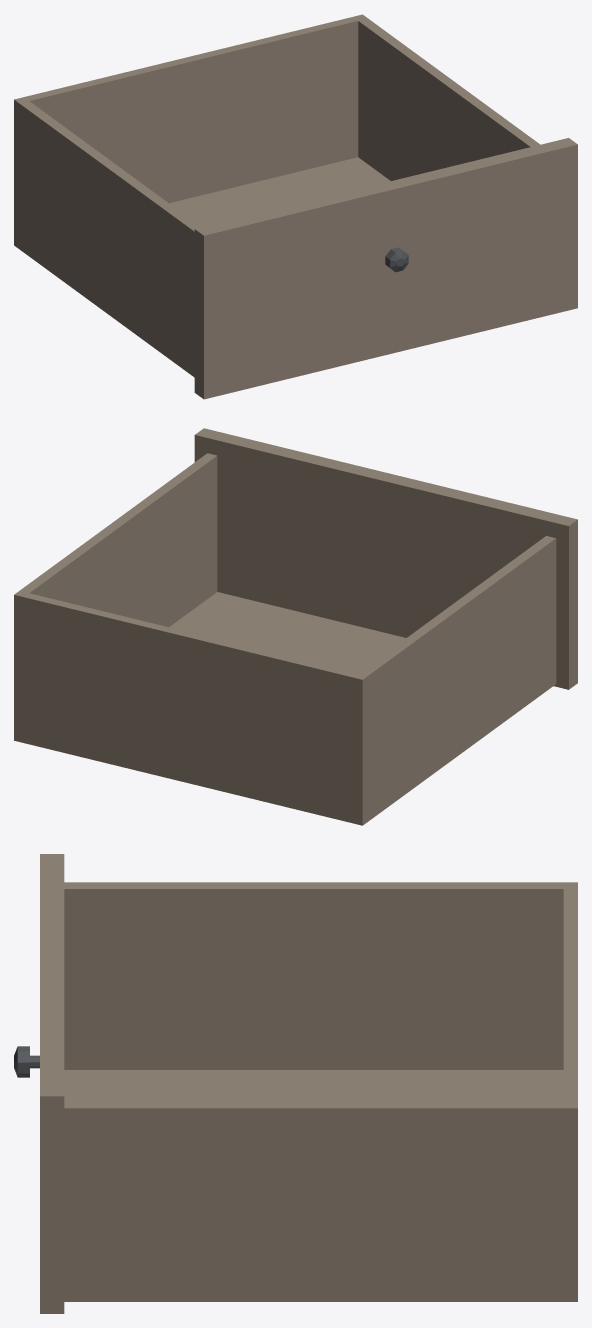
The model's file is Door3_C5_05.fbx.
3 renders of one model, top to bottom at view 1: azimuth 30°, elevation 25°; view 2: azimuth 150°, elevation 25°; view 3: azimuth 270°, elevation 25°, orthographic. The views are drawn at different scales.
Parts seen in each view (by area): view 1: Door3_C5_05; view 2: Door3_C5_05; view 3: Door3_C5_05.
Part boxes in pixels (left/top/right/bottom): Door3_C5_05: left=14, top=14, right=577, bottom=399; Door3_C5_05: left=14, top=428, right=577, bottom=825; Door3_C5_05: left=14, top=854, right=577, bottom=1313.
Bounding box in the file's own units: 59 × 24.68 × 58.03.
